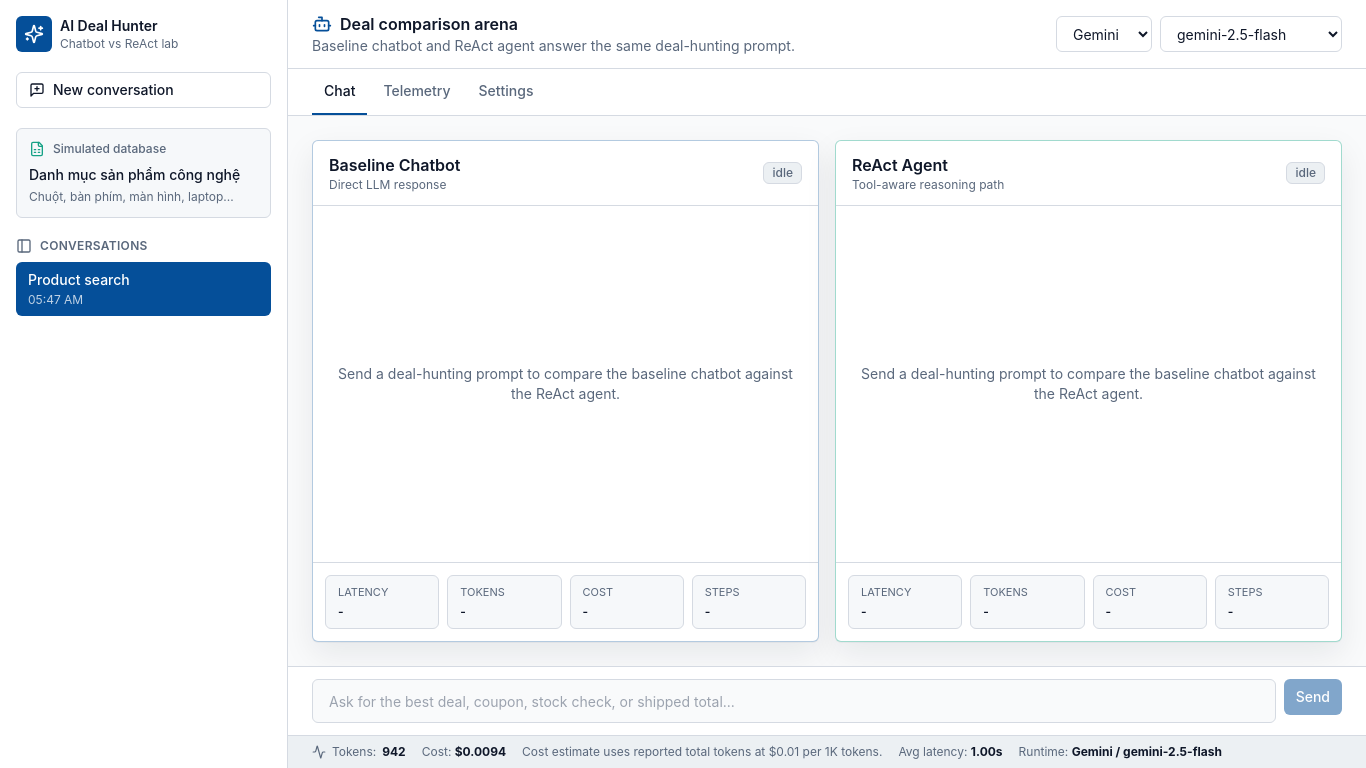
it: AI Deal Hunter UI › renders both chatbot responses after sending a prompt
Type "Find the cheapest laptop with coupon SAVE10" into the field with placeholder "Ask for the best deal". click: {"x": 794, "y": 701}
box: [312,679,1276,723]
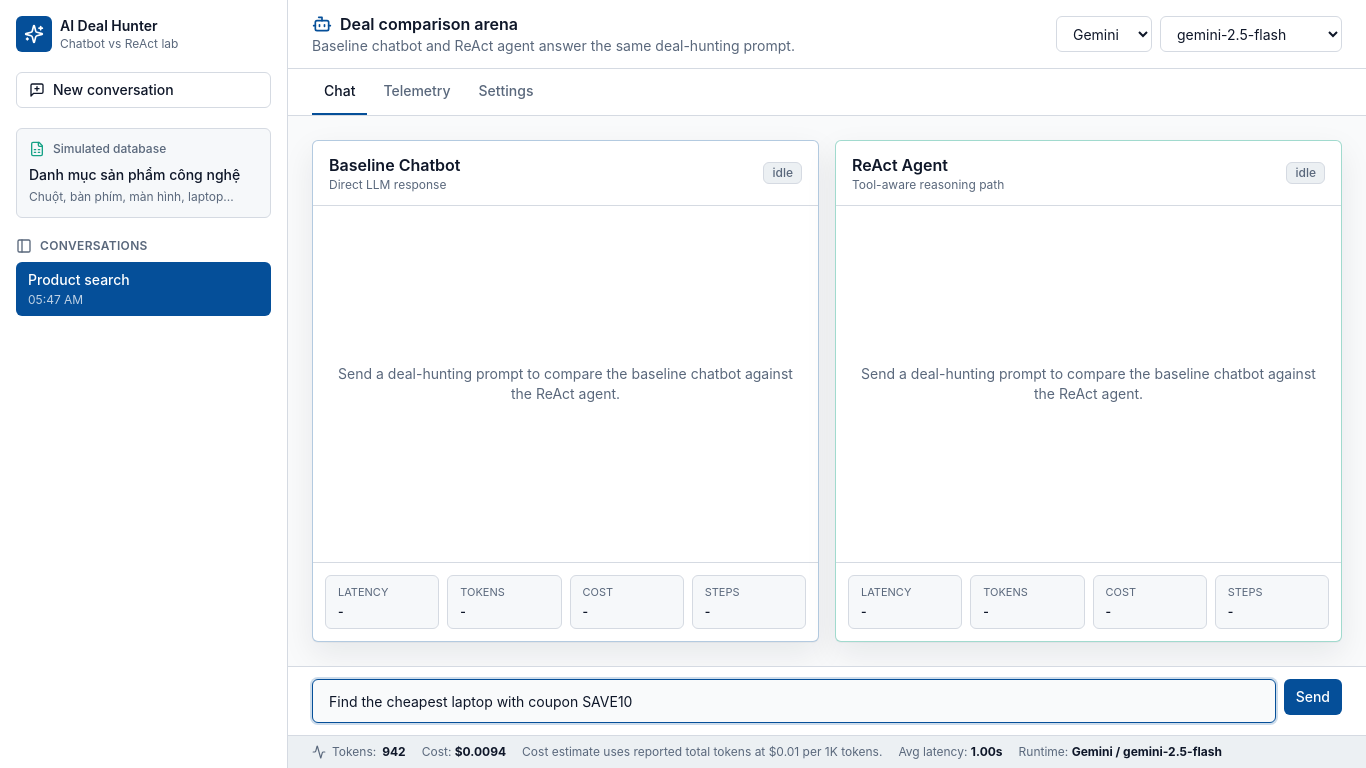
Click the button "Send". click: {"x": 1313, "y": 697}
box: [1284,679,1342,715]
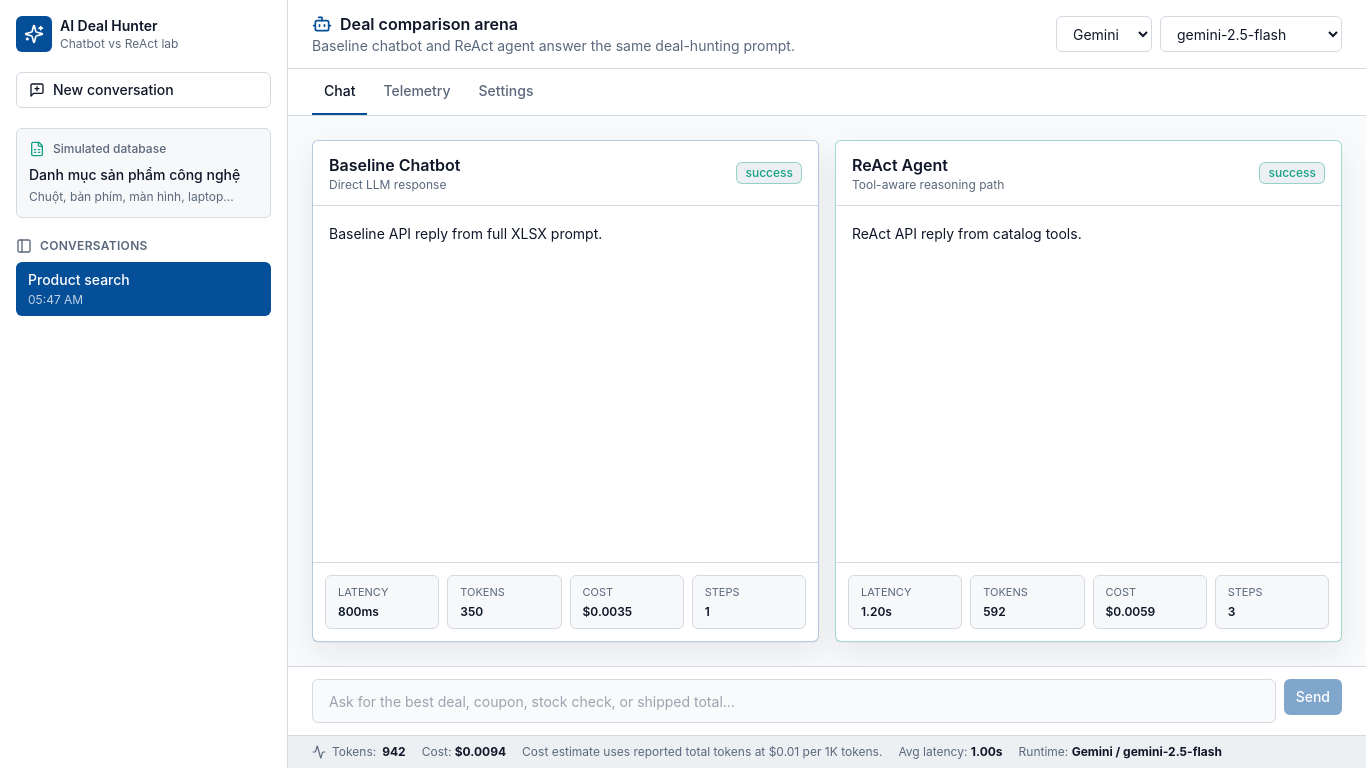
Check: the text "Baseline API reply from full XLSX prompt." is shown, box [329,225,602,242]
Check: the text "ReAct API reply from catalog tools." is shown, box [852,225,1082,242]
